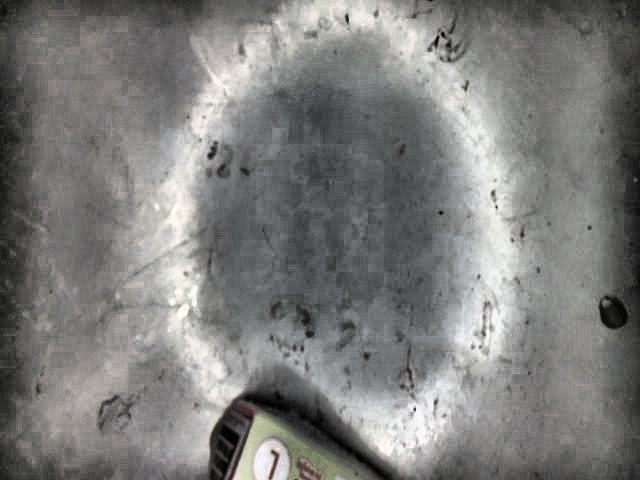Paper: (209, 396, 387, 480)
